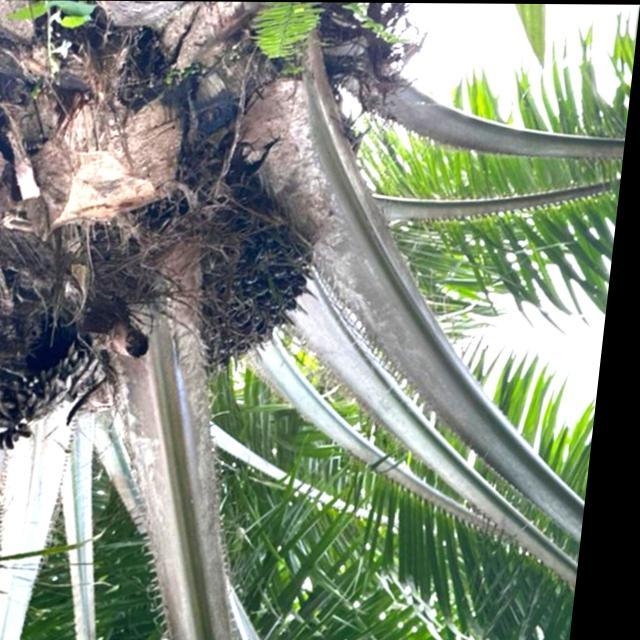unripe: (169, 167, 338, 382)
